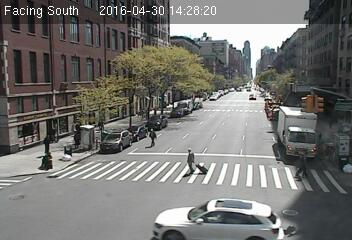neg: (217, 141, 245, 178), (86, 153, 113, 190), (59, 51, 83, 82), (294, 90, 316, 120), (118, 191, 138, 219), (255, 181, 275, 208), (47, 186, 67, 212), (101, 37, 120, 63), (295, 43, 313, 68), (127, 77, 144, 100), (174, 198, 191, 220), (183, 67, 199, 88), (225, 35, 241, 56), (241, 76, 256, 95), (87, 102, 98, 117)
pos: (291, 146, 315, 179), (179, 145, 199, 173), (42, 133, 59, 155), (146, 127, 162, 149), (69, 131, 83, 150)
